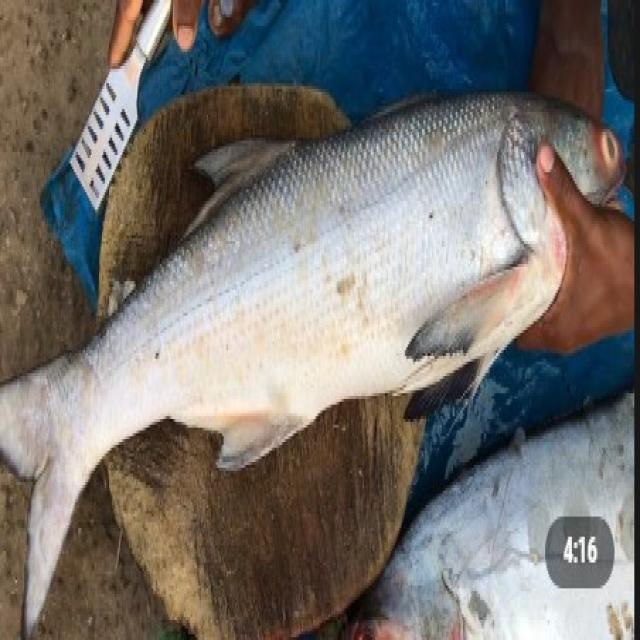Fourfinger-Threadfin: (0, 64, 635, 623)
